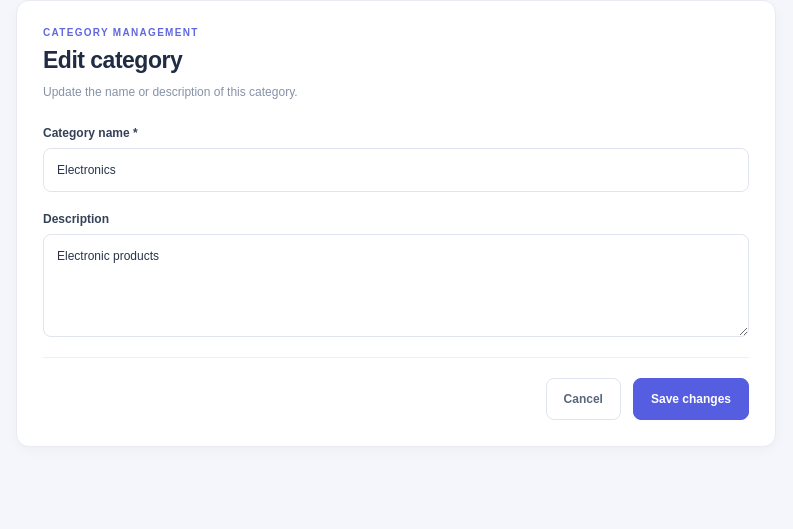
Scenario: CategoryForm component › displays an API error when updating a category fails
Click the button "Save changes": point(691, 399) [633, 378, 749, 420]
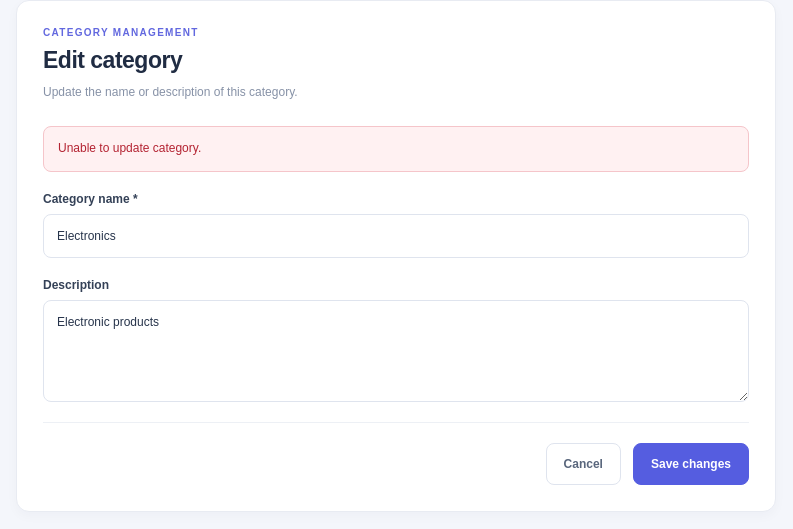
Result: the message reads "Unable to update category." at [58, 141, 201, 155]
